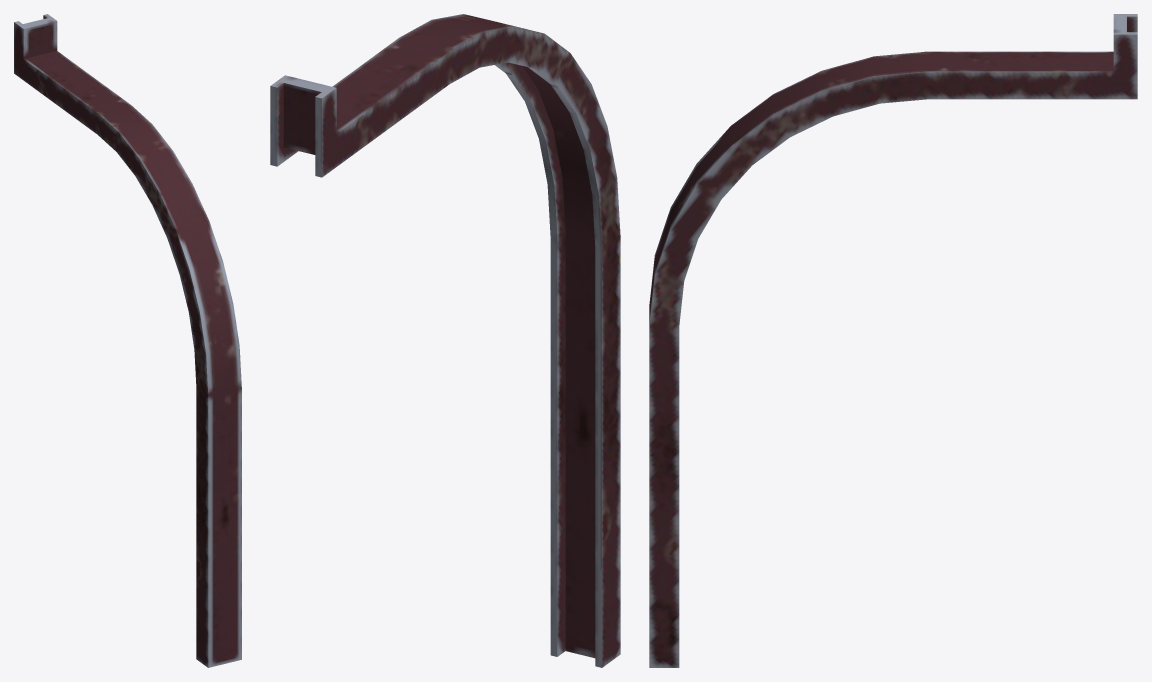
The model's file is beam_hor_floorless.fbx.
3 views of the same model, side by side, from view 1: azimuth 30°, elevation 25°; view 2: azimuth 150°, elevation 25°; view 3: azimuth 270°, elevation 25° (orthographic). The views are drawn at different scales.
Visible parts, largest first — view 1: beam_vert_02.001; view 2: beam_vert_02.001; view 3: beam_vert_02.001.
Boxes of the visible parts, box(x1,y1,x2,y2) form: beam_vert_02.001: box(14, 14, 241, 667); beam_vert_02.001: box(270, 14, 620, 667); beam_vert_02.001: box(649, 14, 1137, 667).
Bounding box in the file's own units: 209 × 2989 × 2088.
